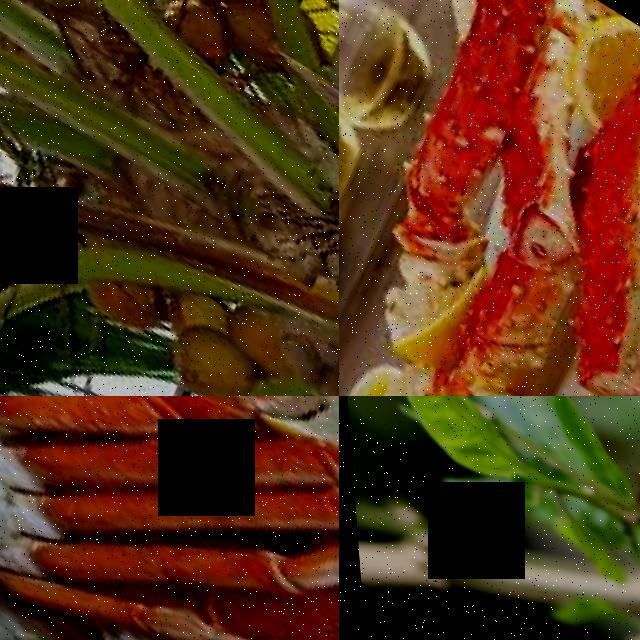coconuts: (114, 244, 294, 396), (122, 0, 339, 94)
crab: (0, 396, 339, 640), (339, 0, 627, 286), (443, 45, 640, 396)
